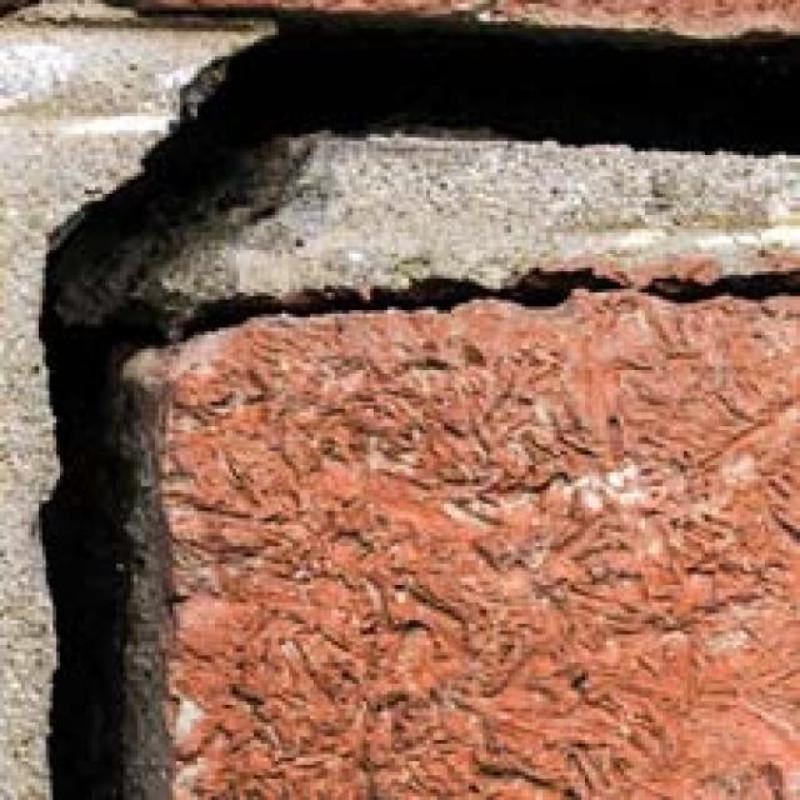pothole: (41, 20, 799, 800), (647, 271, 800, 301)
